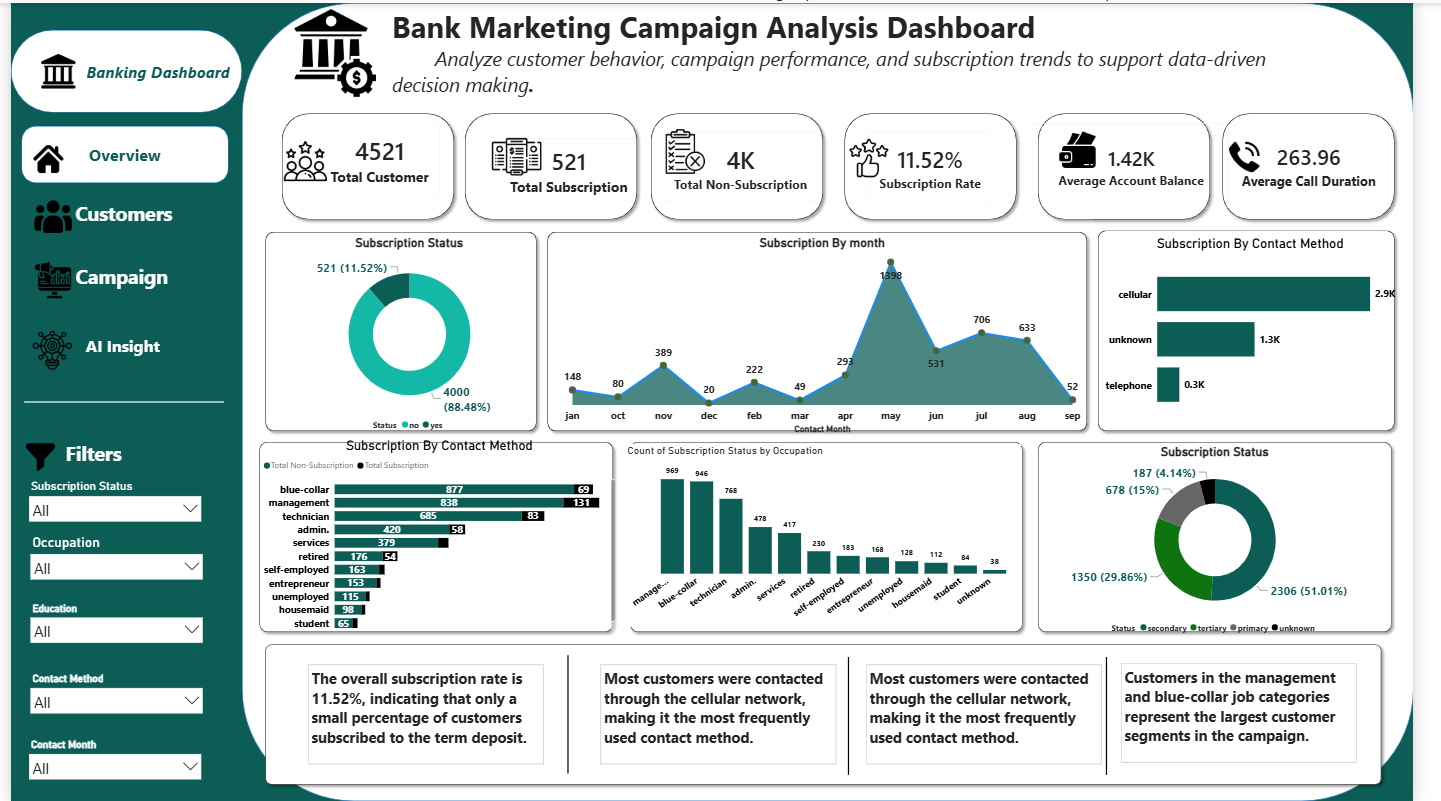

The dashboard page shown, as its layout file describes it:
{"tool":"powerbi","page":{"name":"Overview","canvas":[2300,1310],"ordinal":0},"visuals":[{"type":"shape","box":[378.2,0,1920.9,1308.7],"z":0},{"type":"shape","box":[0,44.3,378.7,135.3],"z":1000},{"type":"image","box":[32,83.6,91,56.6],"z":2000},{"type":"shape","box":[17.2,201.7,339.4,93.5],"z":3000},{"type":"image","box":[32,231.2,59,49.2],"z":4000},{"type":"textbox","box":[17.2,317.3,317.3,81.2],"z":5000},{"type":"image","box":[34.4,319.7,68.9,61.5],"z":6000},{"type":"textbox","box":[17.2,420.6,319.7,88.5],"z":9000},{"type":"image","box":[29.5,420.6,78.7,66.4],"z":10000},{"type":"textbox","box":[34.4,538.6,305,63.9],"z":13000},{"type":"image","box":[34.4,518.9,66.4,100.8],"z":14000},{"type":"actionButton","box":[41.8,317.3,270.5,76.2],"z":15000},{"type":"actionButton","box":[105.8,420.6,186.9,51.6],"z":17000},{"type":"actionButton","box":[32,194.3,307.4,86.1],"z":18000},{"type":"actionButton","box":[93.5,536.1,209,63.9],"z":19000},{"type":"image","box":[19,710.1,57.1,65.3],"z":21000},{"type":"textbox","box":[46.3,710.1,176.9,54.4],"z":22000},{"type":"shape","box":[22.1,592.7,327.1,123],"z":23000},{"type":"slicer","fields":{"Values":["test.Subscription Status"]},"box":[19,775.4,302,89.8],"z":24000},{"type":"slicer","fields":{"Values":["test.Occupation"]},"box":[21.8,865.2,302,89.8],"z":25000},{"type":"slicer","fields":{"Values":["test.Contact Method"]},"box":[21.8,1091.1,302,89.8],"z":26000},{"type":"slicer","fields":{"Values":["test.Education"]},"box":[21.8,976.8,302,89.8],"z":27000},{"type":"slicer","fields":{"Values":["test.Contact Month"]},"box":[19,1199.9,302,89.8],"z":28000},{"type":"textbox","box":[620.4,0,1507.3,171.4],"z":29000},{"type":"image","box":[413.6,8.2,236.7,149.6],"z":30000},{"type":"shape","box":[435.3,172.2,300,191.8],"z":31000},{"type":"shape","box":[1674.8,172.2,300,191.8],"z":32000},{"type":"shape","box":[1357.6,172.2,300,191.8],"z":33000},{"type":"shape","box":[1040.3,172.2,300,191.8],"z":34000},{"type":"shape","box":[735.4,172.2,300,191.8],"z":35000},{"type":"shape","box":[1977.3,172.2,300,191.8],"z":36000},{"type":"cardVisual","fields":{"Data":["test.Total Customer"]},"box":[487,182.3,234,149.6],"z":37000},{"type":"cardVisual","fields":{"Data":["test.Average Account Balance"]},"box":[1657,179.6,356.4,174.1],"z":38000},{"type":"cardVisual","fields":{"Data":["test.Subscription Rate"]},"box":[1390.3,193.2,234,149.6],"z":39000},{"type":"cardVisual","fields":{"Data":["test.Total Non-Subscription"]},"box":[1053,193.2,285.7,149.6],"z":40000},{"type":"cardVisual","fields":{"Data":["test.Total Subscription"]},"box":[786.3,204.1,253,138.8],"z":41000},{"type":"cardVisual","fields":{"Data":["test.Average Call Duration"]},"box":[1978,182.3,299.3,168.7],"z":42000},{"type":"image","box":[435.3,223.1,95.2,70.7],"z":43000},{"type":"image","box":[786.3,212.2,84.3,81.6],"z":44000},{"type":"image","box":[1053,204.1,106.1,78.9],"z":45000},{"type":"image","box":[1357.7,217.7,98,70.7],"z":46000},{"type":"image","box":[1708.7,206.8,78.9,68],"z":47000},{"type":"image","box":[1978,223.1,89.8,57.1],"z":48000},{"type":"shape","box":[408.3,366.4,462.4,344.3],"z":49000},{"type":"shape","box":[1005.9,710.8,661.6,329.6],"z":50000},{"type":"shape","box":[870.6,366.4,902.6,344.3],"z":51000},{"type":"shape","box":[1773.2,364,504.2,346.8],"z":52000},{"type":"shape","box":[1674.8,710.8,597.6,329.6],"z":53000},{"type":"shape","box":[398.4,710.8,597.6,329.6],"z":54000},{"type":"donutChart","title":"Subscription Status","fields":{"Category":["test.Subscription Status"],"Y":["CountNonNull(test.Subscription Status)"]},"box":[435.3,380.9,435.3,329.2],"z":55000},{"type":"lineChart","title":"Subscription By month","fields":{"Y":["CountNonNull(test.Subscription Status)"],"Category":["test.Contact Month"]},"box":[884.3,380.9,889.7,329.2],"z":56000},{"type":"barChart","title":"Subscription By  Contact Method","fields":{"Y":["CountNonNull(test.Subscription Status)"],"Category":["test.Contact Method"]},"box":[1787.6,380.9,487,310.2],"z":57000},{"type":"barChart","title":"Subscription By  Contact Method","fields":{"Category":["test.Occupation"],"Y":["test.Total Non-Subscription","test.Total Subscription"]},"box":[408.1,712.9,587.7,326.5],"z":58000},{"type":"donutChart","title":"Subscription Status","fields":{"Y":["CountNonNull(test.Subscription Status)"],"Category":["test.Education"]},"box":[1692,723.1,563.2,319.7],"z":59000},{"type":"columnChart","fields":{"Y":["CountNonNull(test.Subscription Status)"],"Category":["test.Occupation"]},"box":[1006.7,723.7,650.3,299.3],"z":60000},{"type":"shape","box":[408.1,1042.1,1847.4,247.6],"z":61000},{"type":"textbox","box":[487,1085.6,386.4,163.3],"z":62000},{"type":"shape","box":[906,1069.3,16.3,193.2],"z":63000},{"type":"textbox","box":[1820.2,1082.9,386.4,163.3],"z":64000},{"type":"textbox","box":[965.9,1085.6,386.4,163.3],"z":65000},{"type":"textbox","box":[1401.2,1085.6,386.4,163.3],"z":66000},{"type":"shape","box":[1787.6,1072,16.3,193.2],"z":67000},{"type":"shape","box":[1365.9,1072,16.3,193.2],"z":68000}]}

Visuals, with their boxes on the page's 2300x1310 design canvas (x1, y1, x2, y2). These are canvas units, not pixel positions in the 1441x801 screenshot, which may show the page scaled, cropped or inside an application window:
shape: left=378, top=0, right=2299, bottom=1309
shape: left=0, top=44, right=379, bottom=180
image: left=32, top=84, right=123, bottom=140
shape: left=17, top=202, right=357, bottom=295
image: left=32, top=231, right=91, bottom=280
textbox: left=17, top=317, right=334, bottom=398
image: left=34, top=320, right=103, bottom=381
textbox: left=17, top=421, right=337, bottom=509
image: left=30, top=421, right=108, bottom=487
textbox: left=34, top=539, right=339, bottom=602
image: left=34, top=519, right=101, bottom=620
actionButton: left=42, top=317, right=312, bottom=394
actionButton: left=106, top=421, right=293, bottom=472
actionButton: left=32, top=194, right=339, bottom=280
actionButton: left=94, top=536, right=302, bottom=600
image: left=19, top=710, right=76, bottom=775
textbox: left=46, top=710, right=223, bottom=764
shape: left=22, top=593, right=349, bottom=716
slicer - test.Subscription Status: left=19, top=775, right=321, bottom=865
slicer - test.Occupation: left=22, top=865, right=324, bottom=955
slicer - test.Contact Method: left=22, top=1091, right=324, bottom=1181
slicer - test.Education: left=22, top=977, right=324, bottom=1067
slicer - test.Contact Month: left=19, top=1200, right=321, bottom=1290
textbox: left=620, top=0, right=2128, bottom=171
image: left=414, top=8, right=650, bottom=158
shape: left=435, top=172, right=735, bottom=364
shape: left=1675, top=172, right=1975, bottom=364
shape: left=1358, top=172, right=1658, bottom=364
shape: left=1040, top=172, right=1340, bottom=364
shape: left=735, top=172, right=1035, bottom=364
shape: left=1977, top=172, right=2277, bottom=364
cardVisual - test.Total Customer: left=487, top=182, right=721, bottom=332
cardVisual - test.Average Account Balance: left=1657, top=180, right=2013, bottom=354
cardVisual - test.Subscription Rate: left=1390, top=193, right=1624, bottom=343
cardVisual - test.Total Non-Subscription: left=1053, top=193, right=1339, bottom=343
cardVisual - test.Total Subscription: left=786, top=204, right=1039, bottom=343
cardVisual - test.Average Call Duration: left=1978, top=182, right=2277, bottom=351
image: left=435, top=223, right=530, bottom=294
image: left=786, top=212, right=871, bottom=294
image: left=1053, top=204, right=1159, bottom=283
image: left=1358, top=218, right=1456, bottom=288
image: left=1709, top=207, right=1788, bottom=275
image: left=1978, top=223, right=2068, bottom=280
shape: left=408, top=366, right=871, bottom=711
shape: left=1006, top=711, right=1668, bottom=1040
shape: left=871, top=366, right=1773, bottom=711
shape: left=1773, top=364, right=2277, bottom=711
shape: left=1675, top=711, right=2272, bottom=1040
shape: left=398, top=711, right=996, bottom=1040
"Subscription Status" donutChart: left=435, top=381, right=871, bottom=710
"Subscription By month" lineChart: left=884, top=381, right=1774, bottom=710
"Subscription By  Contact Method" barChart: left=1788, top=381, right=2275, bottom=691
"Subscription By  Contact Method" barChart: left=408, top=713, right=996, bottom=1039
"Subscription Status" donutChart: left=1692, top=723, right=2255, bottom=1043
columnChart - CountNonNull(test.Subscription Status) x test.Occupation: left=1007, top=724, right=1657, bottom=1023
shape: left=408, top=1042, right=2256, bottom=1290
textbox: left=487, top=1086, right=873, bottom=1249
shape: left=906, top=1069, right=922, bottom=1262
textbox: left=1820, top=1083, right=2207, bottom=1246
textbox: left=966, top=1086, right=1352, bottom=1249
textbox: left=1401, top=1086, right=1788, bottom=1249
shape: left=1788, top=1072, right=1804, bottom=1265
shape: left=1366, top=1072, right=1382, bottom=1265
